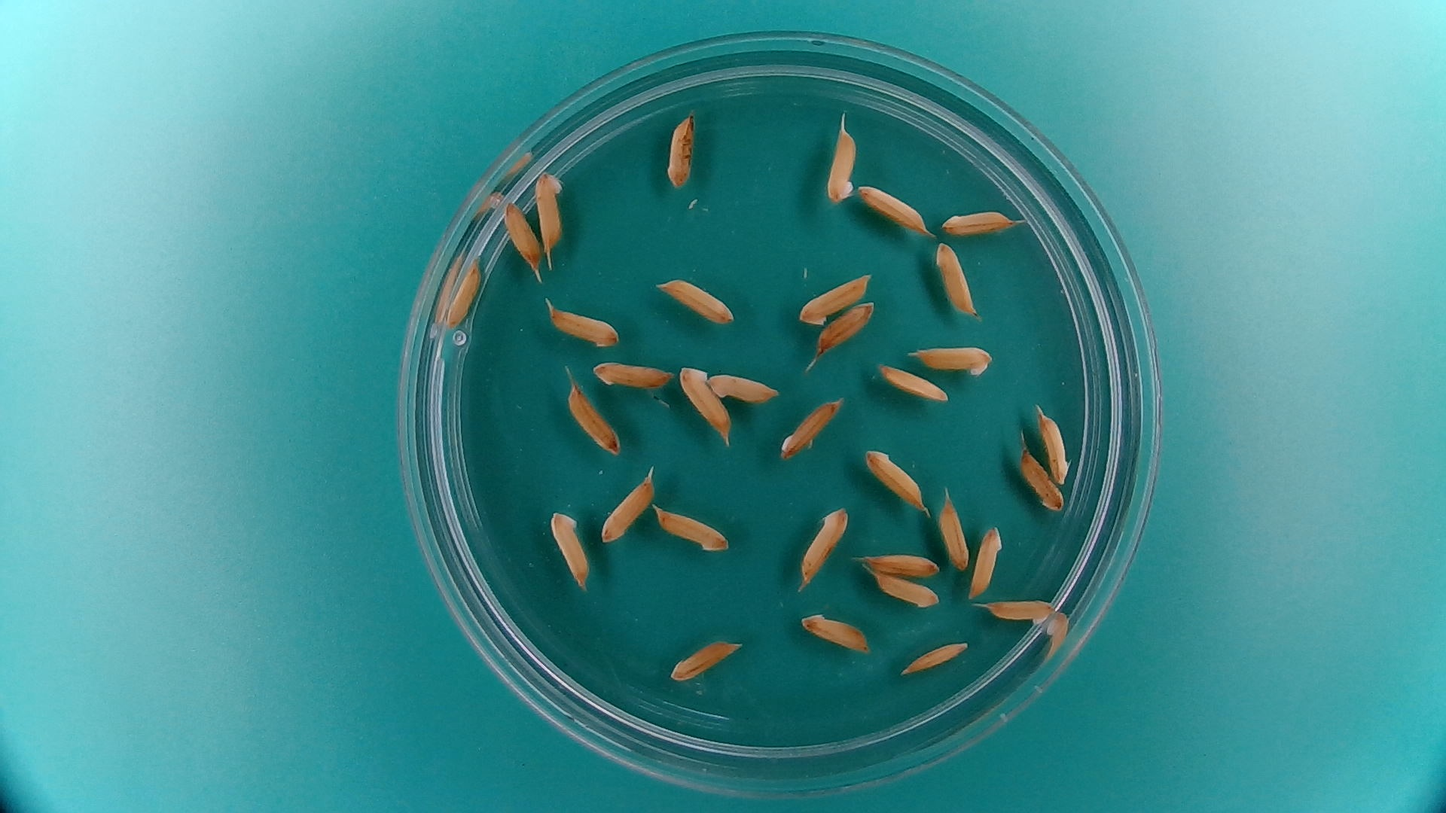no: (793, 269, 874, 327), (796, 504, 850, 588), (776, 395, 844, 460), (599, 470, 657, 544), (676, 362, 731, 440), (862, 444, 927, 510), (565, 380, 621, 456), (651, 504, 731, 555), (654, 275, 737, 324), (856, 181, 931, 235), (544, 299, 621, 348), (812, 298, 877, 355), (667, 636, 743, 683), (932, 240, 978, 317), (798, 607, 871, 655), (908, 340, 996, 379), (822, 114, 859, 205), (548, 509, 590, 589), (1017, 447, 1066, 513), (501, 198, 544, 273), (875, 361, 950, 403), (1035, 403, 1072, 485), (967, 522, 1005, 601), (663, 105, 698, 190), (444, 253, 482, 329), (534, 168, 566, 254), (706, 368, 780, 405), (899, 637, 971, 675), (869, 571, 941, 609), (937, 495, 972, 571), (590, 358, 673, 389), (981, 595, 1056, 629), (938, 205, 1016, 236), (860, 549, 943, 578)
